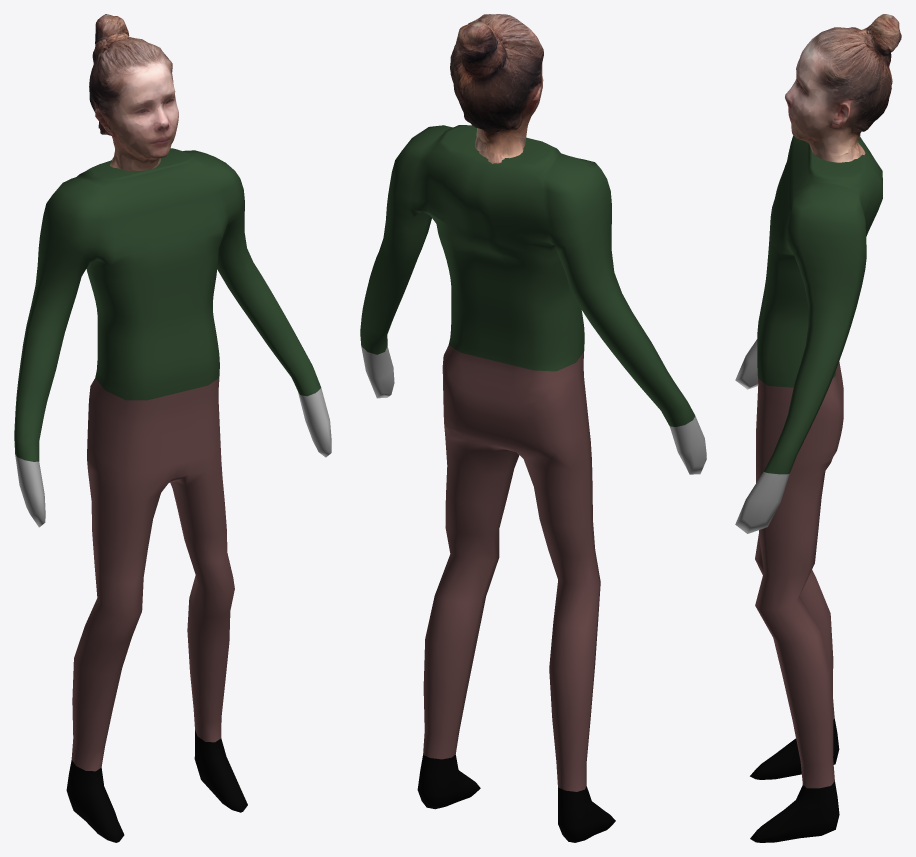
Rendered from newPau.fbx.
3 views of the same model, side by side, from view 1: azimuth 30°, elevation 25°; view 2: azimuth 150°, elevation 25°; view 3: azimuth 270°, elevation 25° (orthographic). The views are drawn at different scales.
Parts seen in each view (by area): view 1: polySurface4; view 2: polySurface4; view 3: polySurface4.
Boxes of the visible parts, <box> form: polySurface4: <box>14,14,331,842</box>; polySurface4: <box>360,14,706,842</box>; polySurface4: <box>735,14,901,842</box>.
Size of the model in its own units: 73.3 by 178 by 33.92.
Materials: 5 (1 with a texture image).
